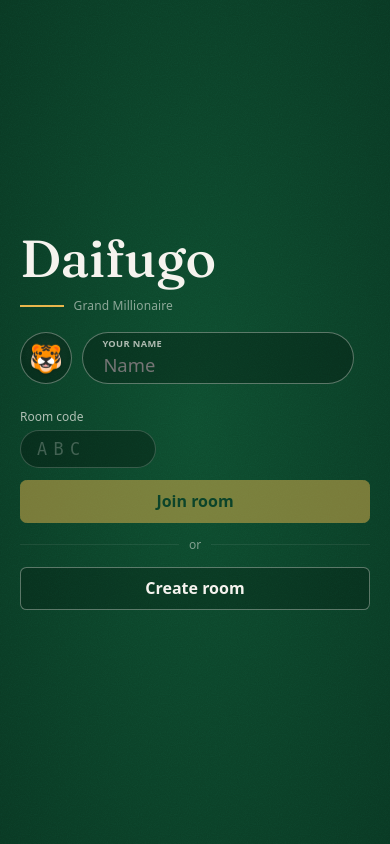
Test: MainMenu › refuses to join without a name, through a key
In the field labelled "Room code": (88, 449) top-left (20, 430), bottom-right (156, 468), type "ABC234"
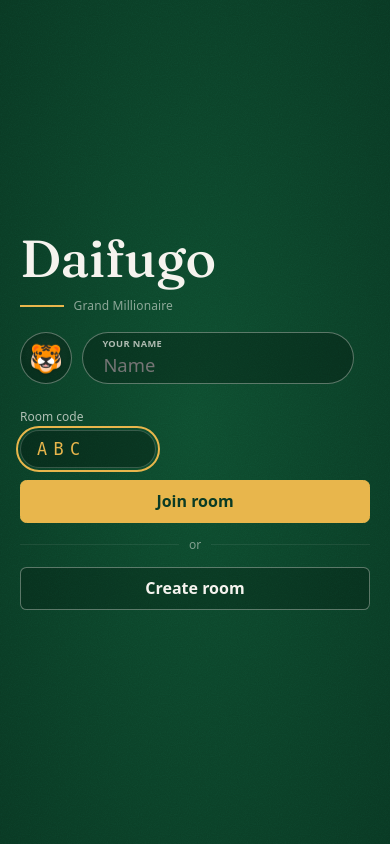
Click the button "Join room": (195, 501) top-left (20, 480), bottom-right (370, 523)
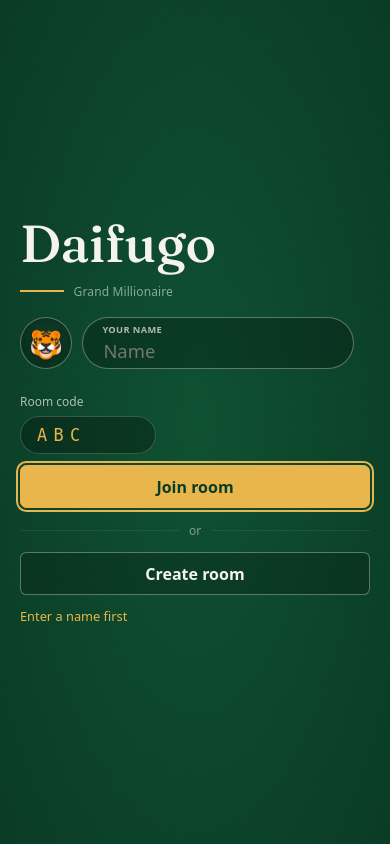
Result: the message reads "Enter a name first" at top-left (20, 607), bottom-right (127, 625)
